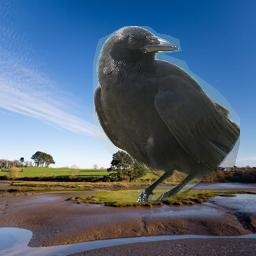Crow: (93, 26, 240, 202)
